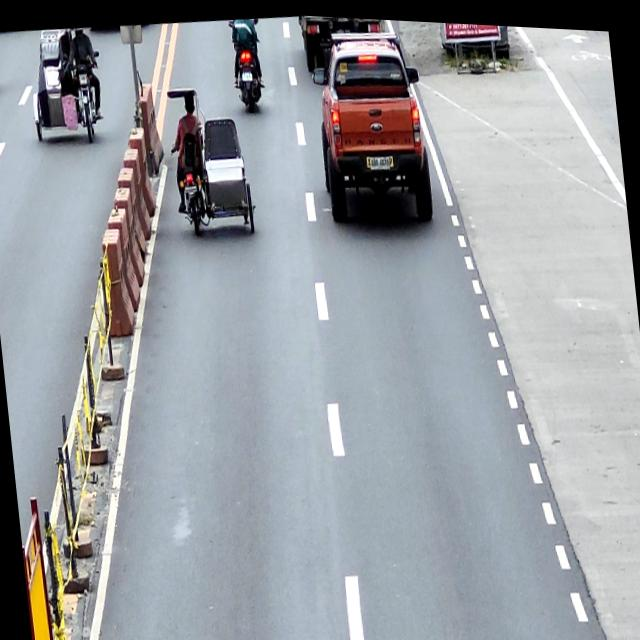Car: (308, 20, 434, 227)
License-Plate: (370, 151, 390, 167), (240, 67, 252, 79)
Motorcycle: (228, 15, 268, 111)
Tricycle: (165, 78, 256, 240), (24, 22, 108, 145)
Truck: (296, 12, 389, 76)
